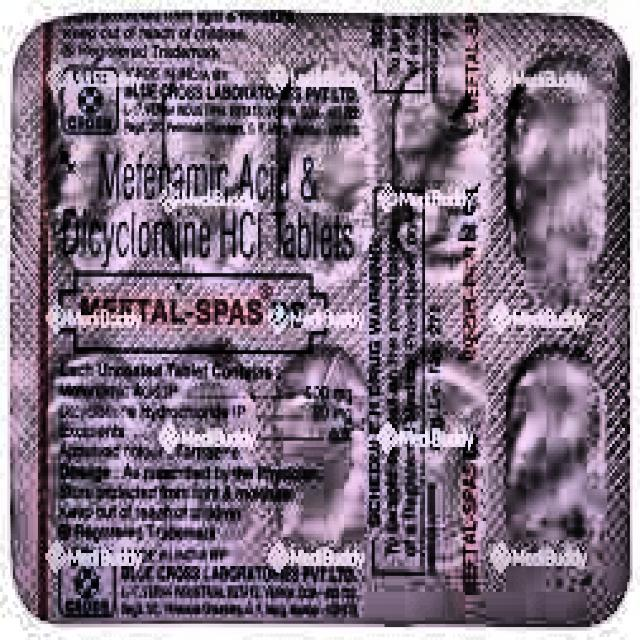Meftal: (58, 154, 376, 287)
